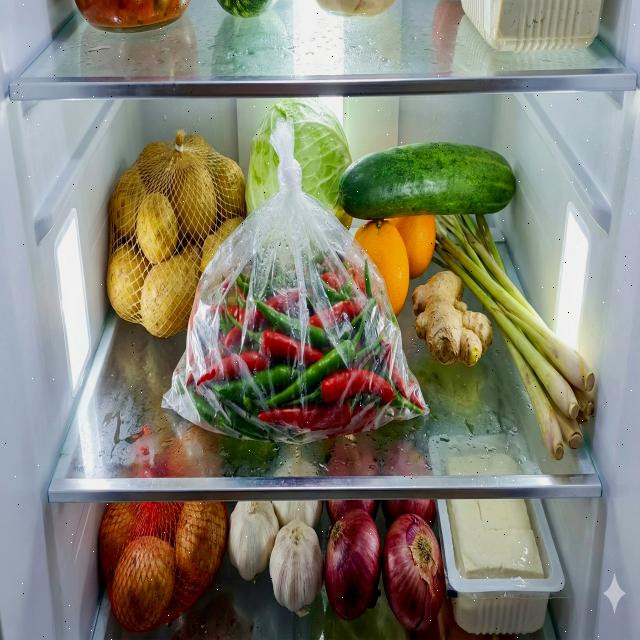cabbage: (244, 96, 354, 232)
chili: (173, 256, 429, 444)
cucumber: (338, 141, 516, 221)
garlic: (228, 500, 324, 612)
ginger: (412, 270, 494, 368)
lemongrass: (432, 210, 596, 458)
onion: (324, 500, 446, 632)
orange: (354, 215, 436, 319)
potato: (105, 133, 246, 339), (99, 499, 228, 632)
tofu: (446, 499, 544, 580)
